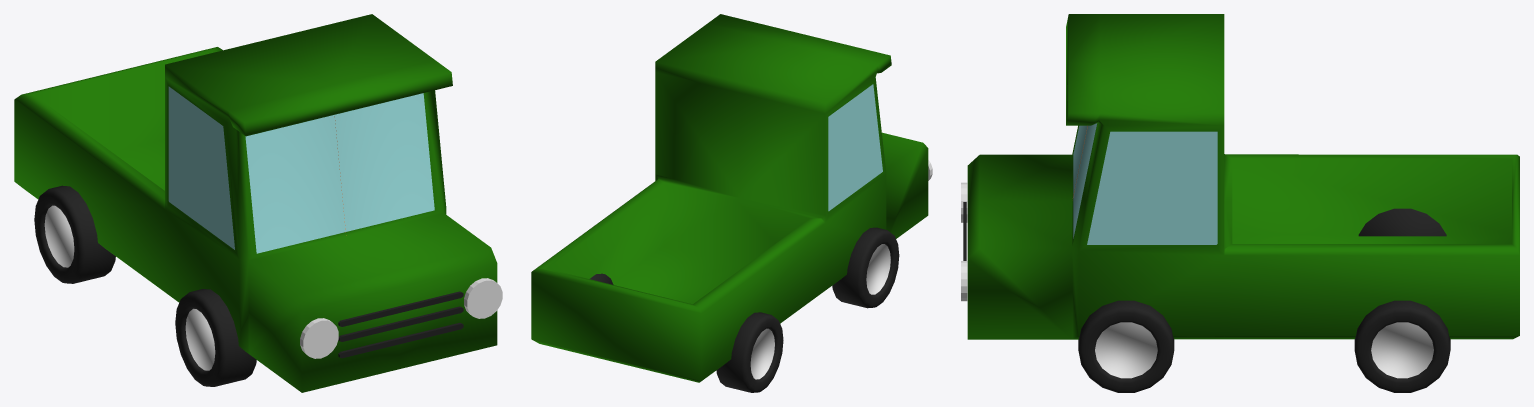
The model's file is Truck_1.fbx.
The picture shows the model from 3 angles, left to right: view 1: azimuth 30°, elevation 25°; view 2: azimuth 150°, elevation 25°; view 3: azimuth 270°, elevation 25°; orthographic projection. The views are drawn at different scales.
Parts seen in each view (by area): view 1: Cube.040; view 2: Cube.040; view 3: Cube.040.
Boxes of the visible parts, x1,y1,x2,y2 form: Cube.040: (14,14,502,392); Cube.040: (531,14,932,392); Cube.040: (961,14,1519,392).
Size of the model in its own units: 273 by 301 by 558.
